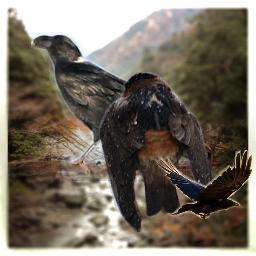Crow: (31, 32, 194, 181), (155, 150, 254, 219)
Swallow: (99, 72, 217, 234)
